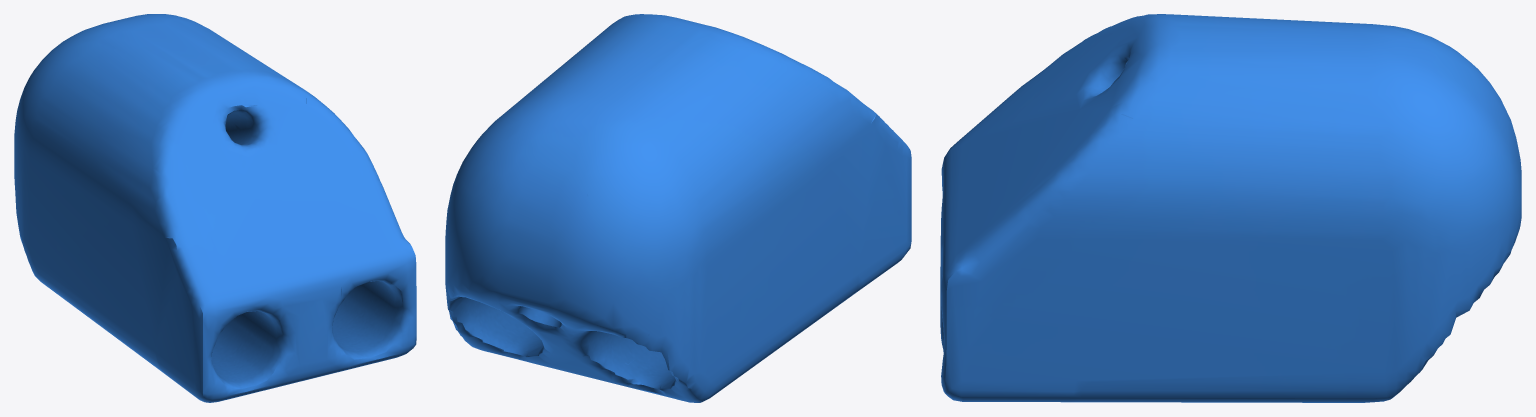
The model's file is left_finger2_upper.obj.
3 renders of one model, left to right at view 1: azimuth 30°, elevation 25°; view 2: azimuth 150°, elevation 25°; view 3: azimuth 270°, elevation 25°, orthographic. The views are drawn at different scales.
Visible parts, largest first — view 1: left_finger2_upper; view 2: left_finger2_upper; view 3: left_finger2_upper.
Boxes of the visible parts, left/top/right/bottom form: left_finger2_upper: left=14, top=14, right=416, bottom=402; left_finger2_upper: left=445, top=14, right=911, bottom=402; left_finger2_upper: left=940, top=14, right=1521, bottom=402.
Size of the model in its own units: 0.0113 by 0.0122 by 0.0205.
Materials: 1 (1 with a texture image).
